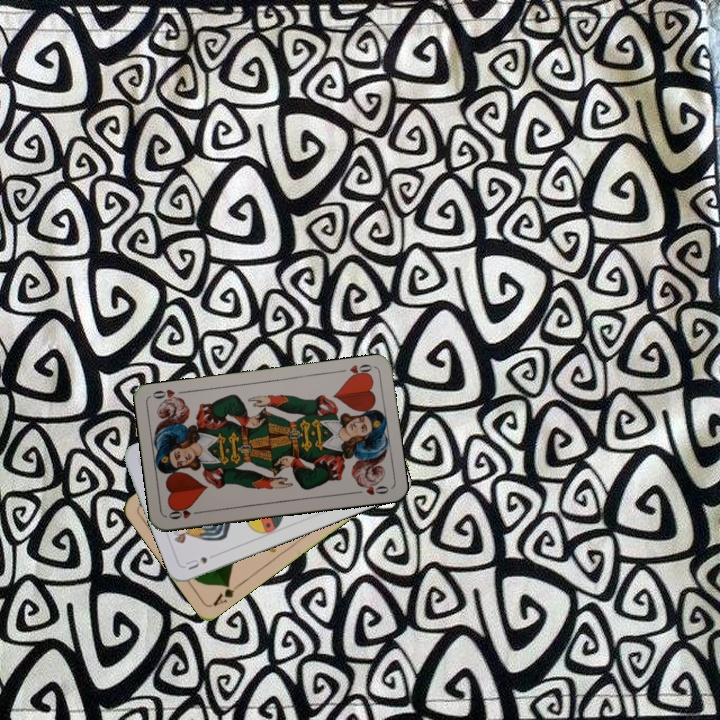GA: (208, 578, 244, 609)
HO: (164, 504, 204, 522), (344, 360, 376, 381)
SU: (182, 552, 210, 573)
